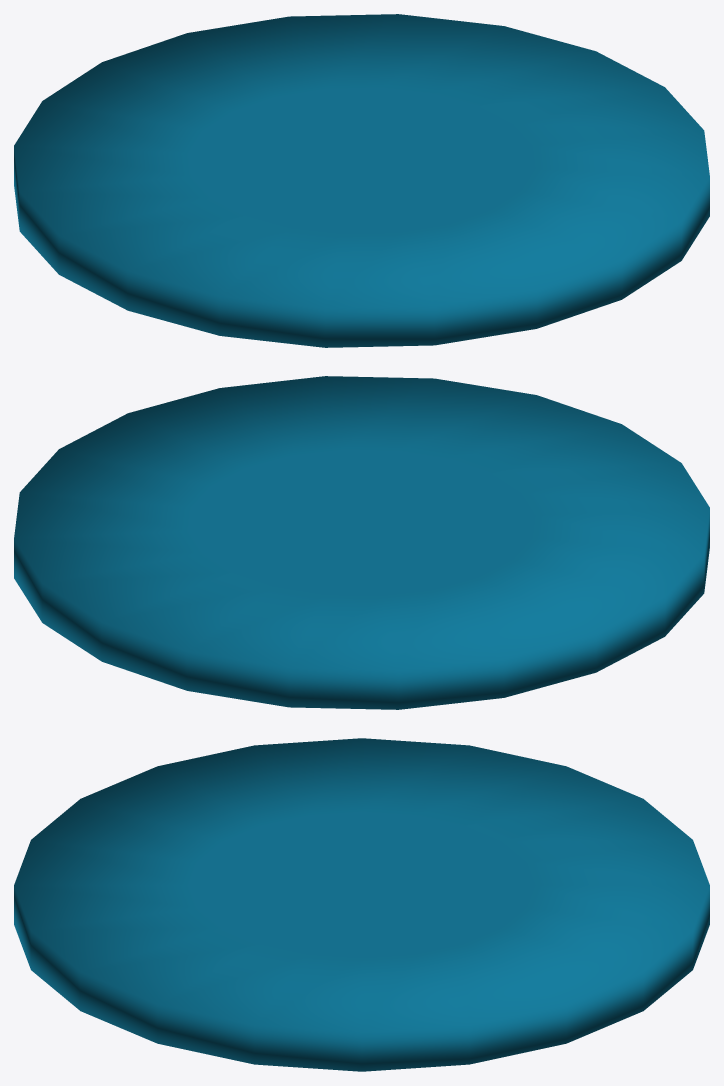
Rendered from Cil1.fbx.
3 views of the same model, one above another, from view 1: azimuth 30°, elevation 25°; view 2: azimuth 150°, elevation 25°; view 3: azimuth 270°, elevation 25° (orthographic).
Visible parts, largest first — view 1: Cylinder002; view 2: Cylinder002; view 3: Cylinder002.
Boxes of the visible parts, x1,y1,x2,y2 form: Cylinder002: (14,14,709,347); Cylinder002: (14,376,709,709); Cylinder002: (14,738,709,1071).
Bounding box in the file's own units: 157 × 9.84 × 157.
